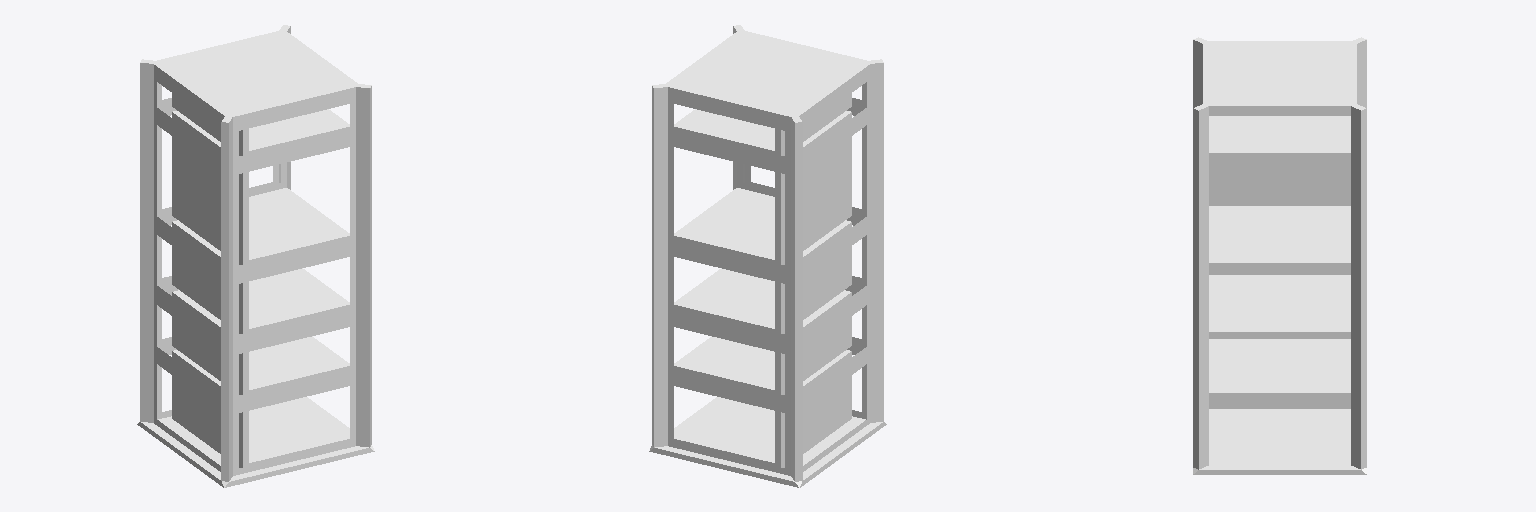
File: serverrack.obj
3 renders of one model, left to right at view 1: azimuth 30°, elevation 25°; view 2: azimuth 150°, elevation 25°; view 3: azimuth 270°, elevation 25°, orthographic.
Parts seen in each view (by area): view 1: Cube1; view 2: Cube1; view 3: Cube1.
Boxes of the visible parts, x1,y1,x2,y2 form: Cube1: [137, 25, 374, 487]; Cube1: [649, 25, 886, 487]; Cube1: [1193, 37, 1366, 474].
Size of the model in its own units: 2.71 by 6.27 by 2.71.